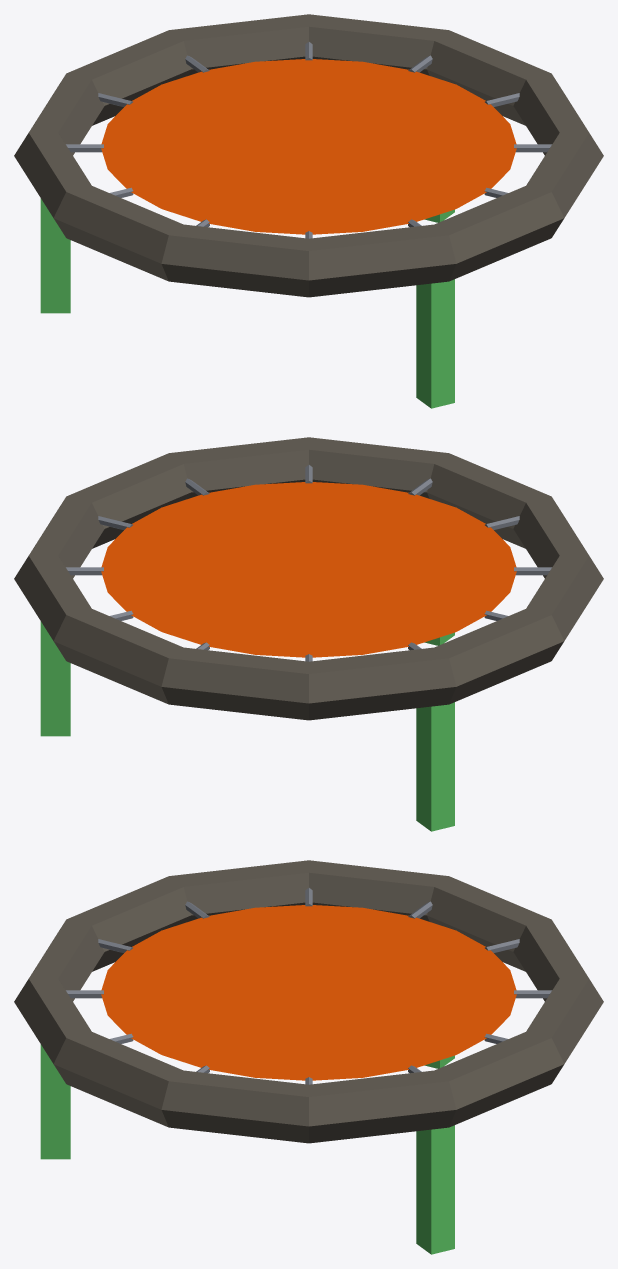
File: Trambolin.fbx
3 renders of one model, top to bottom at view 1: azimuth 30°, elevation 25°; view 2: azimuth 150°, elevation 25°; view 3: azimuth 270°, elevation 25°, orthographic.
Parts seen in each view (by area): view 1: pTorus4, pDisc5, pCube9, pCube8; view 2: pTorus4, pDisc5, pCube8, pCube7; view 3: pTorus4, pDisc5, pCube7, pCube9.
Boxes of the visible parts, bbox=[...] form: pTorus4: bbox=[14, 14, 603, 297]; pDisc5: bbox=[101, 59, 516, 234]; pCube9: bbox=[416, 279, 454, 408]; pCube8: bbox=[40, 198, 70, 313]; pTorus4: bbox=[14, 437, 603, 720]; pDisc5: bbox=[101, 482, 516, 657]; pCube8: bbox=[416, 702, 454, 831]; pCube7: bbox=[40, 621, 70, 736]; pTorus4: bbox=[14, 860, 603, 1143]; pDisc5: bbox=[101, 905, 516, 1080]; pCube7: bbox=[416, 1125, 454, 1254]; pCube9: bbox=[40, 1044, 70, 1159].
Size of the model in its own units: 1.63 by 0.5333 by 1.63.
